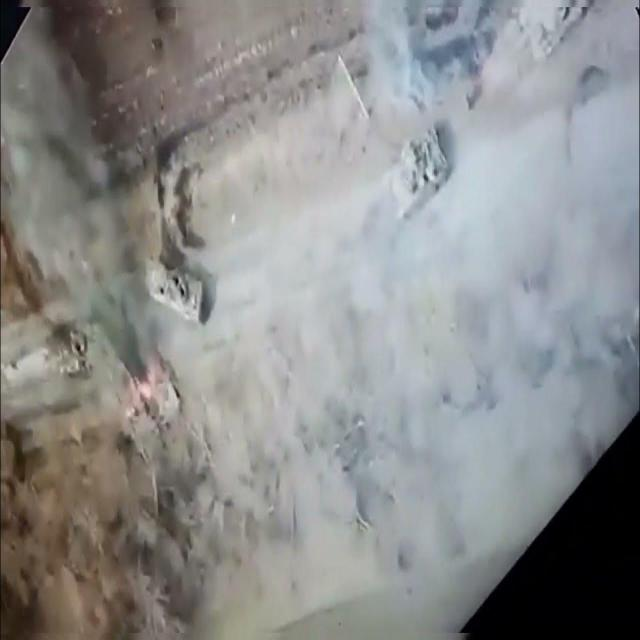apc: (148, 264, 205, 329)
destroyed: (111, 358, 183, 422)
tank: (382, 131, 448, 222), (518, 0, 586, 61)
